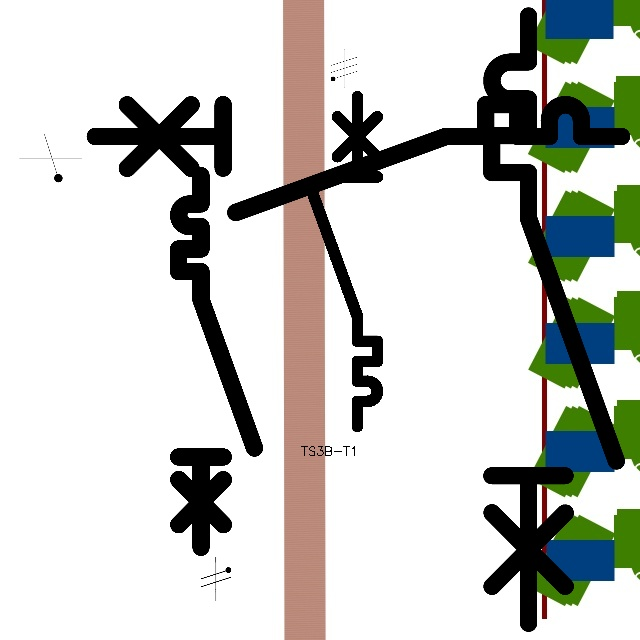interruptor_termomagnetico: (476, 0, 632, 639), (81, 91, 635, 226), (169, 166, 264, 556), (301, 88, 386, 435)
